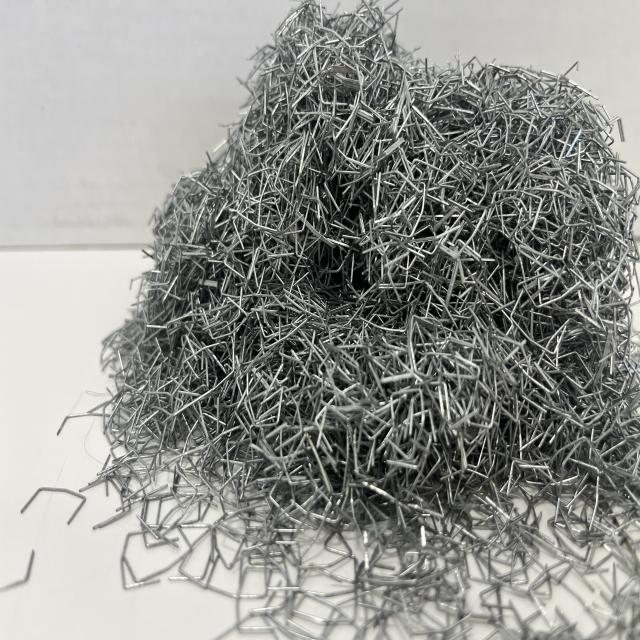staples: (17, 4, 637, 636)
